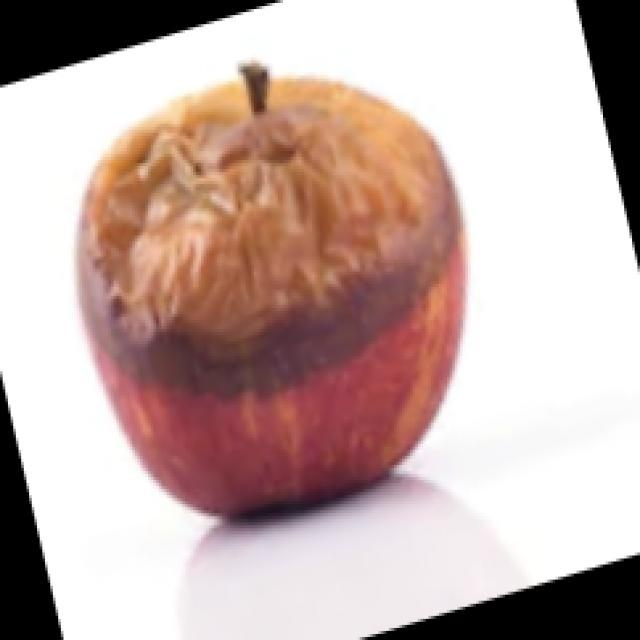Rotten: (95, 75, 465, 498)
